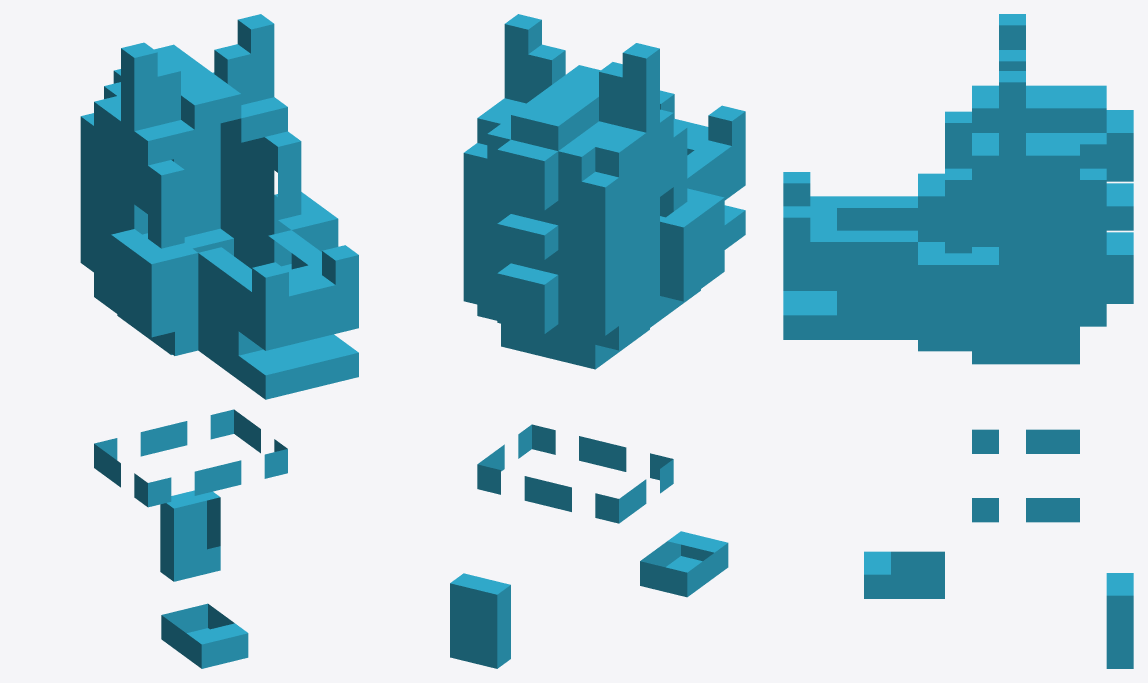
Rendered from Character-3.obj.
3 views of the same model, side by side, from view 1: azimuth 30°, elevation 25°; view 2: azimuth 150°, elevation 25°; view 3: azimuth 270°, elevation 25° (orthographic).
Bounding box in the file's own units: 1.4 × 2.4 × 1.3.
Materials: 1 (1 with a texture image).
